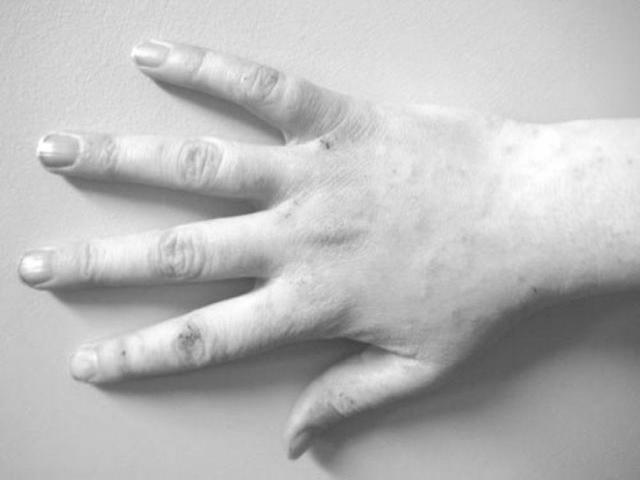not-gloved: (25, 37, 518, 454)
